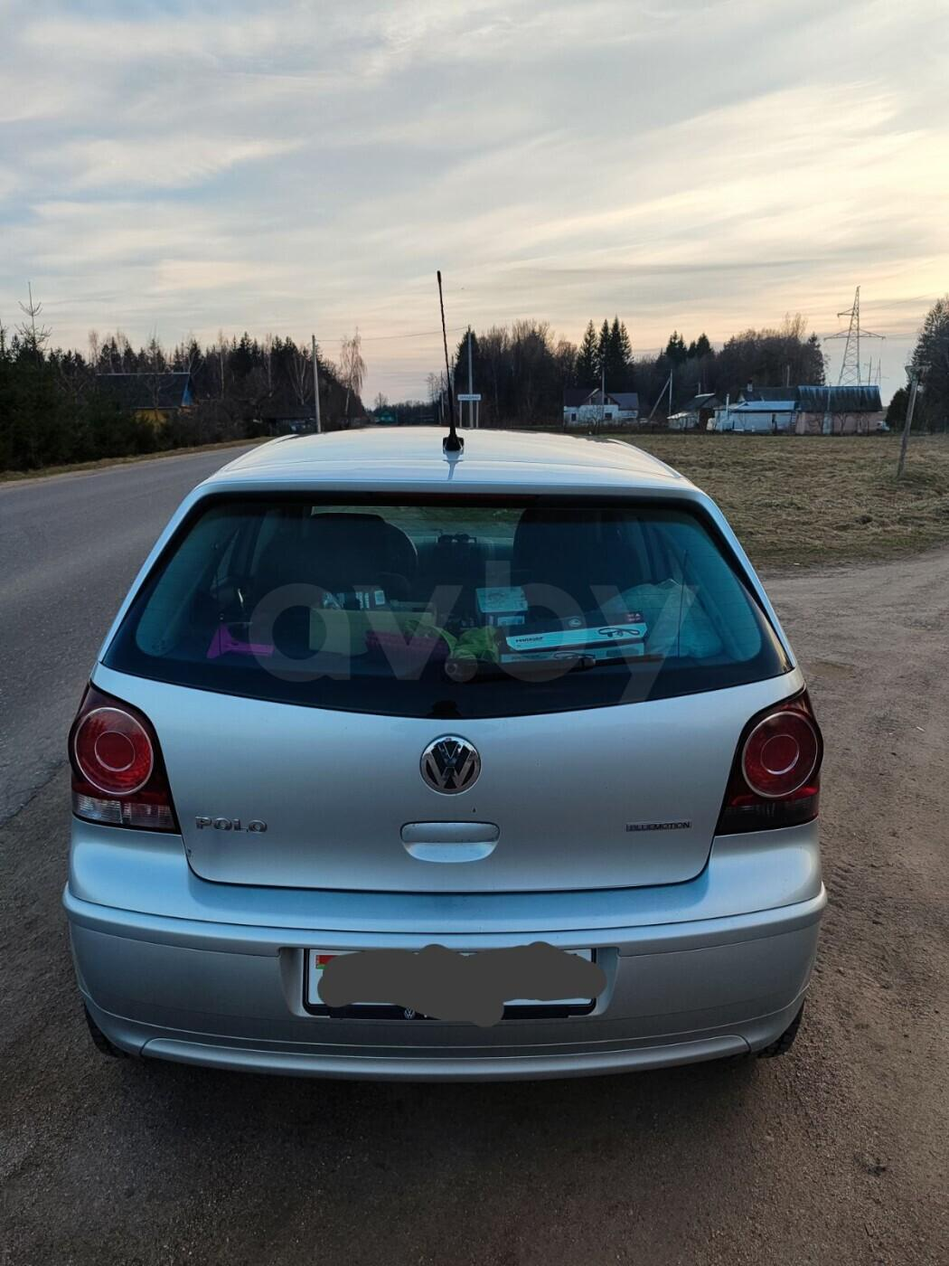Polo_2005-2009: (54, 421, 847, 1100)
